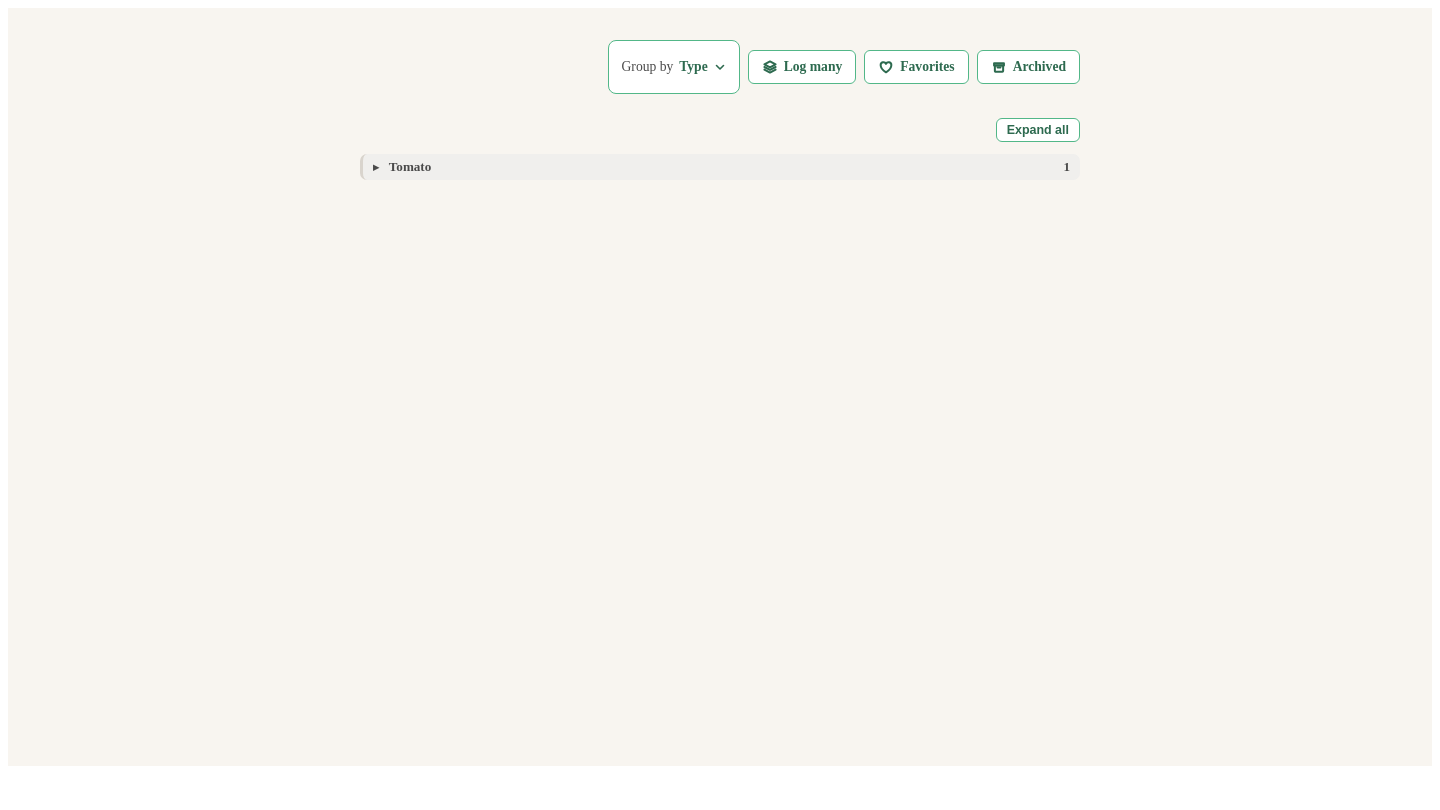
Scenario: Garden — reaches CACHED mode (not PLAIN) › a warm cache paints the grid WITHOUT waiting for the network
This screenshot has width=1440, height=810.
expect the link "Log many" is shown: met, box 748,50 -> 856,84
Click the button with aria-label "Expand all sections" at x=1038, y=130, box 996,118 -> 1080,142
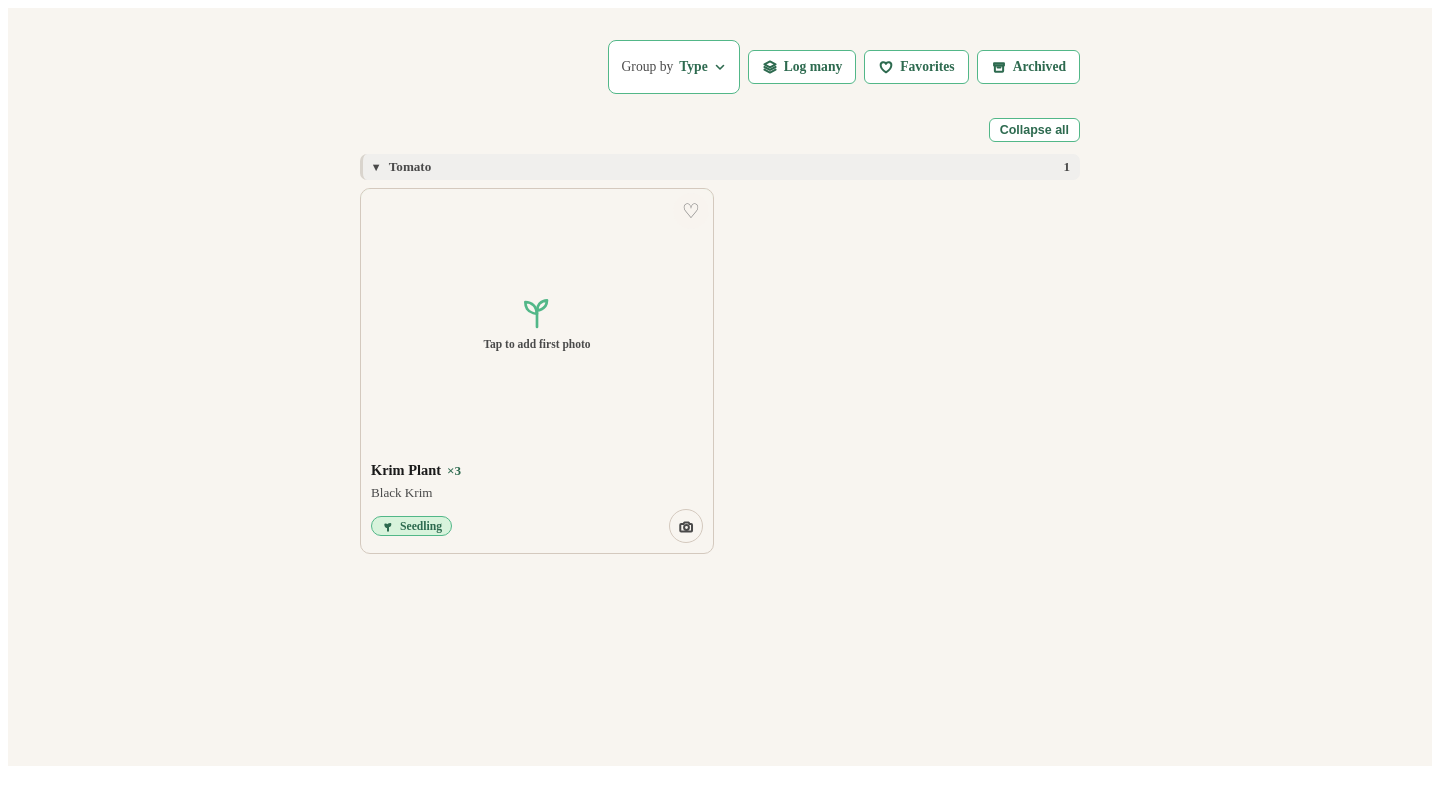
expect the text "Krim Plant" is shown: met, box 371,461 -> 441,479
